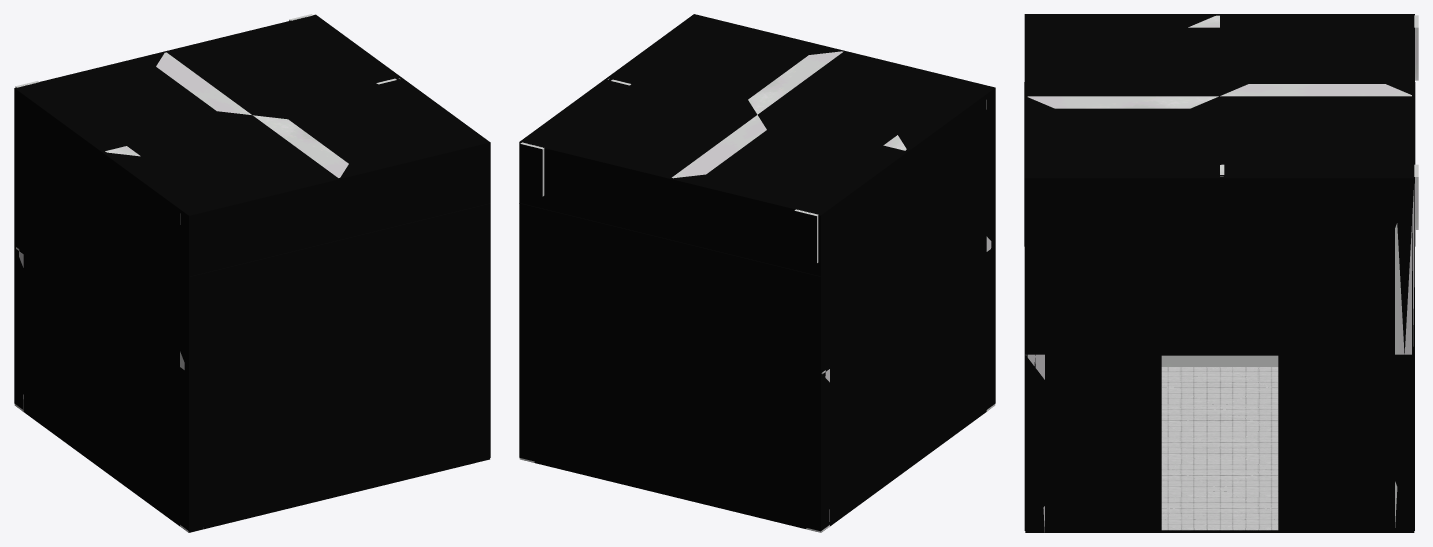
Rendered from OfficeRoom2.fbx.
3 renders of one model, left to right at view 1: azimuth 30°, elevation 25°; view 2: azimuth 150°, elevation 25°; view 3: azimuth 270°, elevation 25°, orthographic. The views are drawn at different scales.
Visible parts, largest first — view 1: node_id8 (×2); view 2: node_id8 (×2); view 3: node_id8 (×3).
Part boxes in pixels (bbox=[...]): node_id8 (×2): bbox=[14, 14, 490, 532]; node_id8 (×2): bbox=[519, 14, 995, 532]; node_id8 (×3): bbox=[1024, 14, 1418, 532].
Bounding box in the file's own units: 0.5089 × 0.512 × 0.5161.
3 materials, 2 textured.
